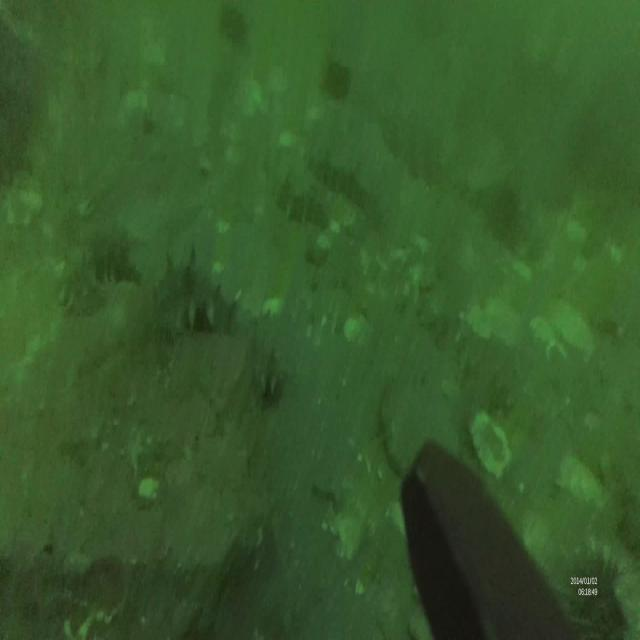echinus: (573, 548, 631, 640), (486, 180, 518, 237), (218, 4, 246, 48), (321, 58, 351, 99)
holothurian: (147, 249, 240, 336), (306, 143, 383, 224), (86, 226, 144, 288), (250, 327, 290, 414), (276, 176, 326, 235), (63, 260, 102, 318)
